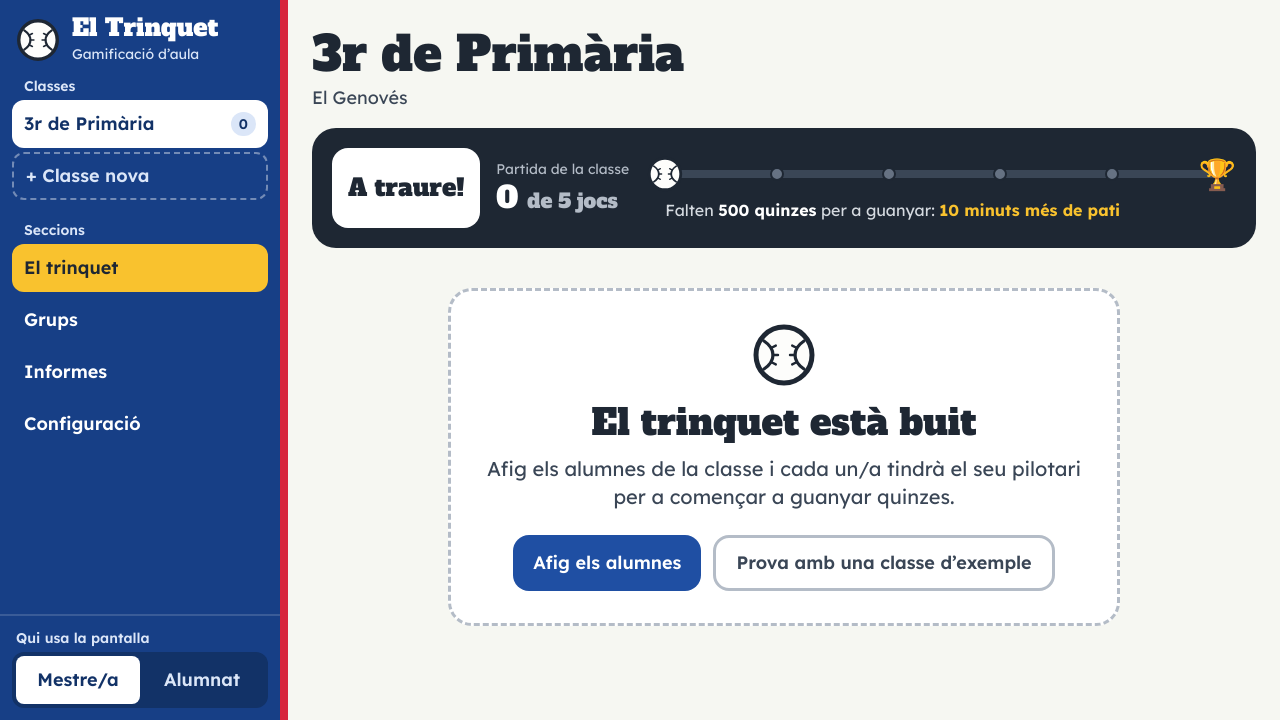
it: pantalla del mestre/a › amb el trinquet buit convida a afegir alumnes i pot carregar una classe d’exemple
Expected: the heading "El trinquet està buit" is shown, [592,398,976,447]
Click the button "Prova amb una classe d’exemple": click(884, 563) [713,535,1055,591]
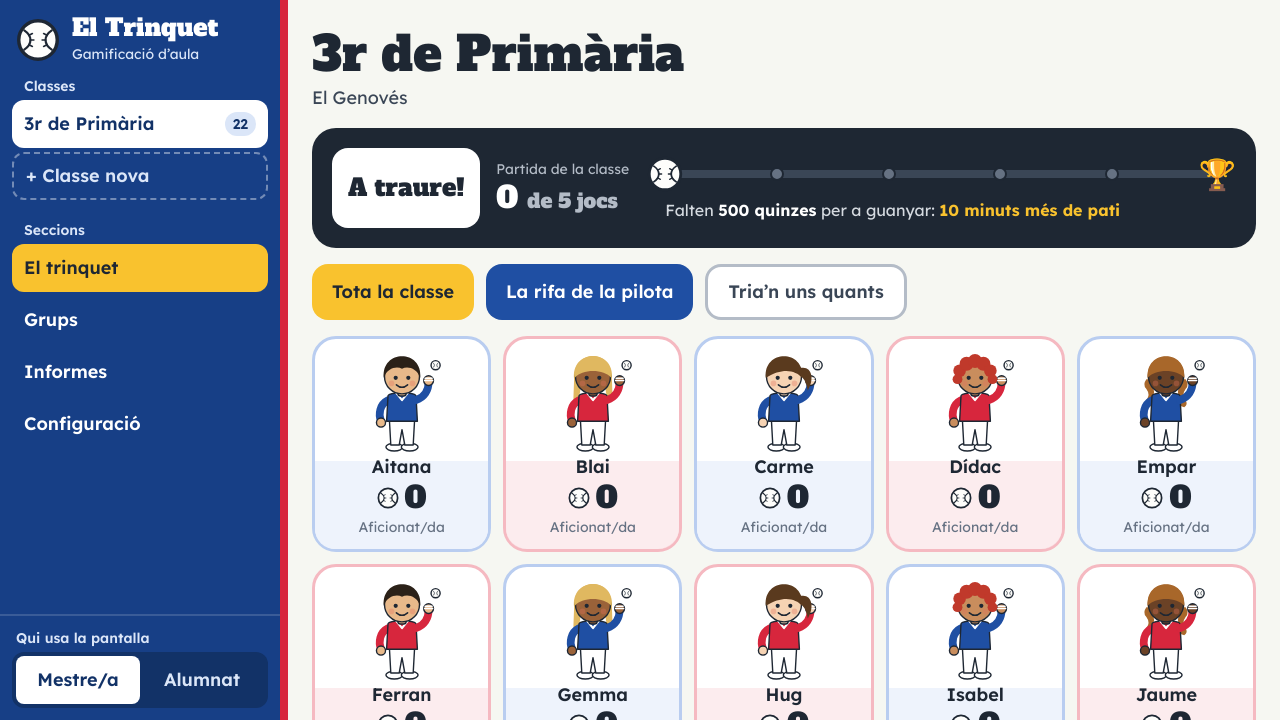
Expected: the number of buttons named ": 0 quinzes, Aficionat/da" is 22
